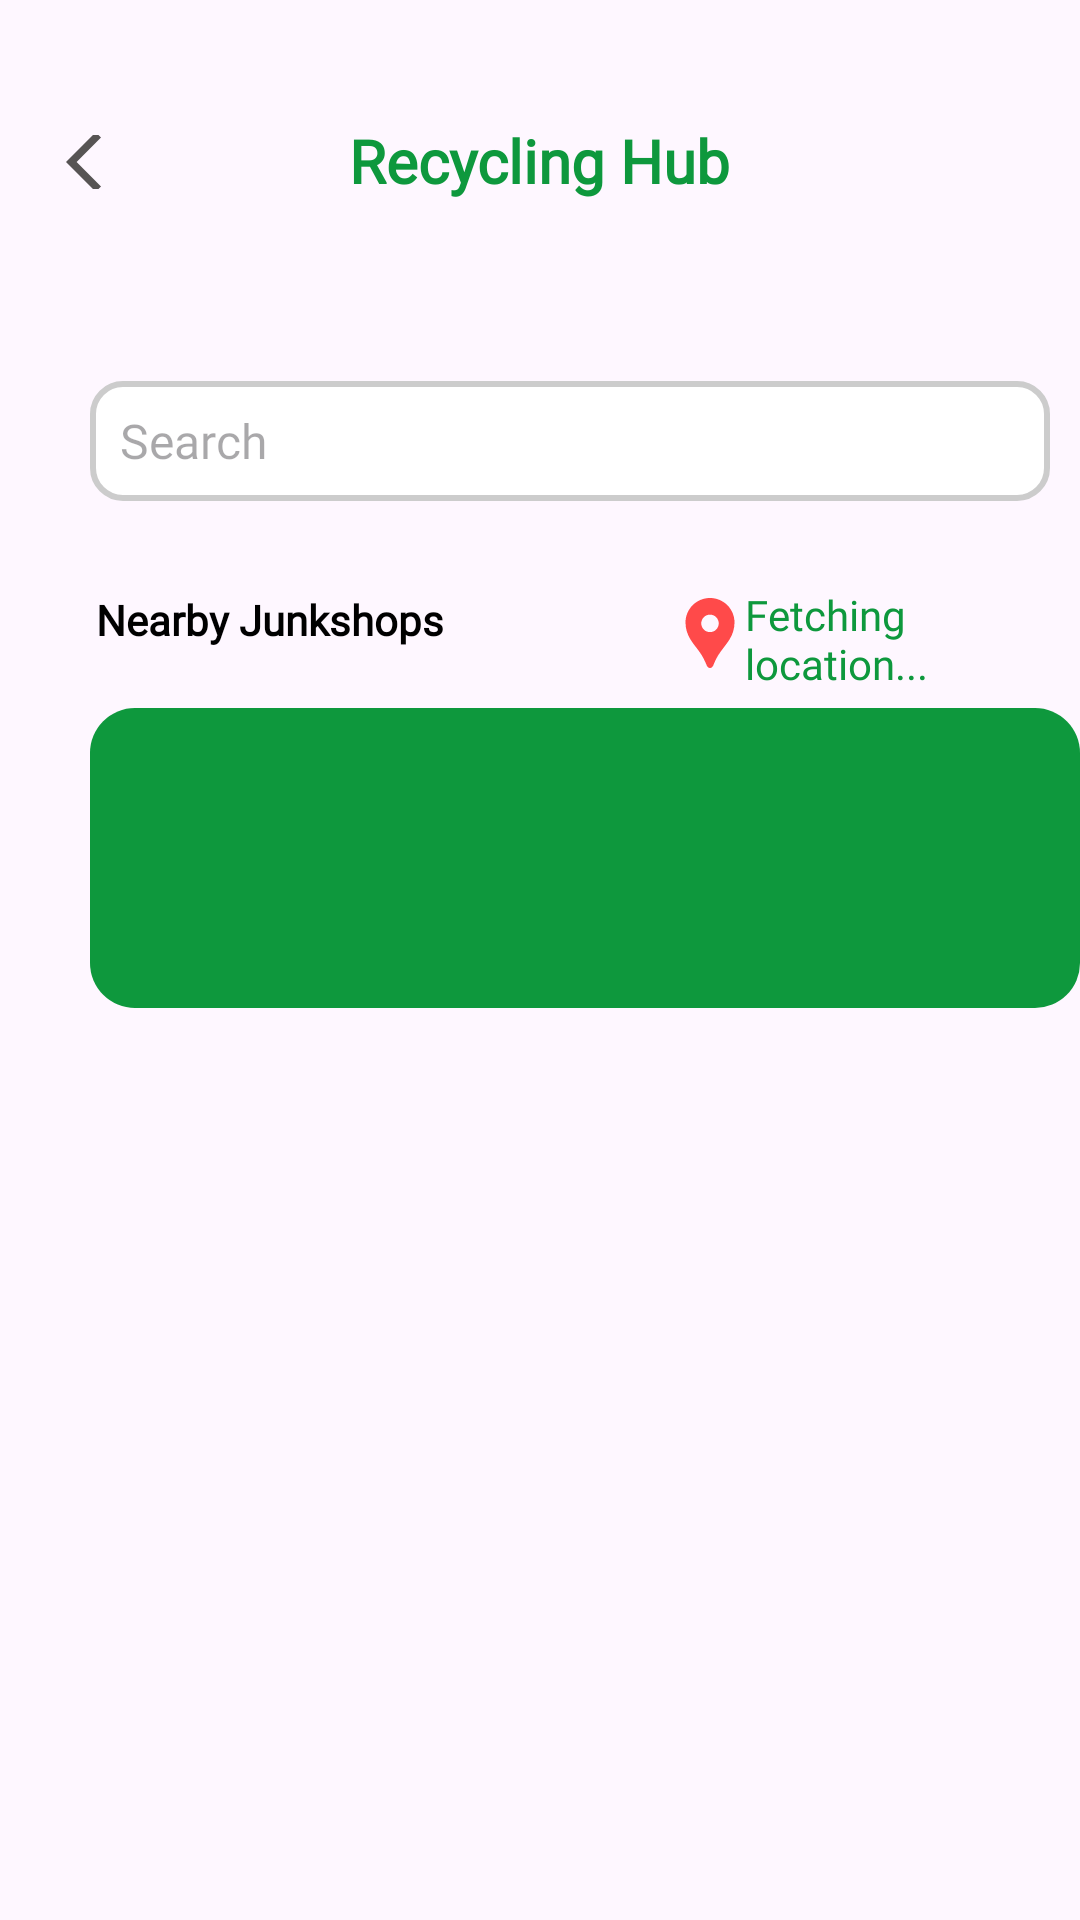

Icons on this 1080*1920 Android screen, each with its box as bbox(x1, y1, x2, y2):
arrow back: bbox(66, 135, 101, 189)
location pin: bbox(685, 598, 752, 675)
